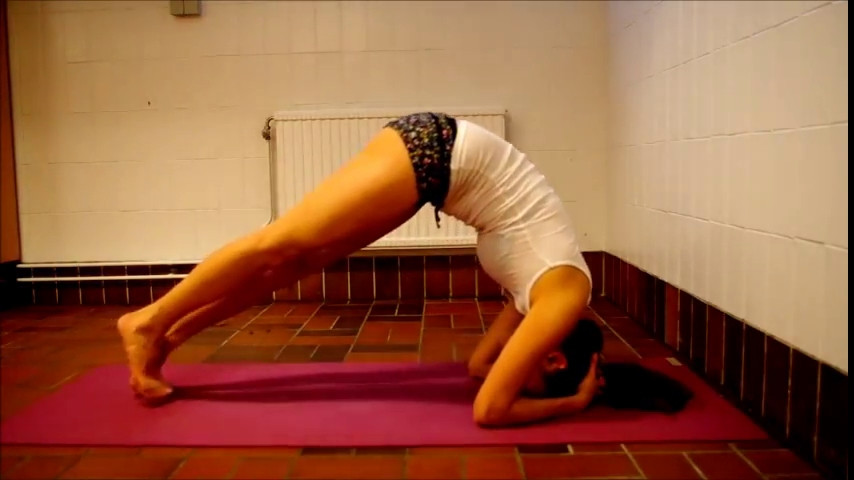person: (116, 113, 607, 429)
